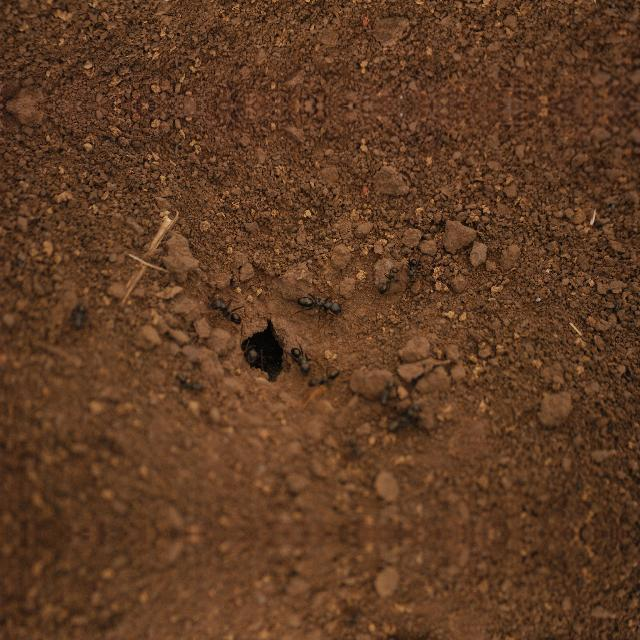Cataglyphis: (66, 297, 112, 337), (295, 289, 351, 317), (384, 401, 422, 434), (234, 334, 266, 368), (206, 298, 244, 326), (168, 368, 202, 397), (286, 345, 312, 373), (306, 369, 342, 389), (379, 376, 401, 408), (403, 254, 423, 286), (373, 269, 397, 295), (384, 632, 422, 640), (438, 243, 454, 254)
